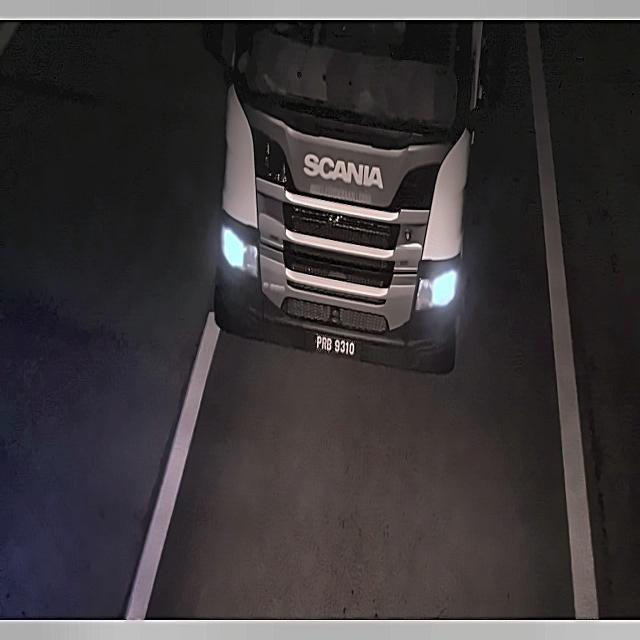car: (308, 328, 359, 362)
